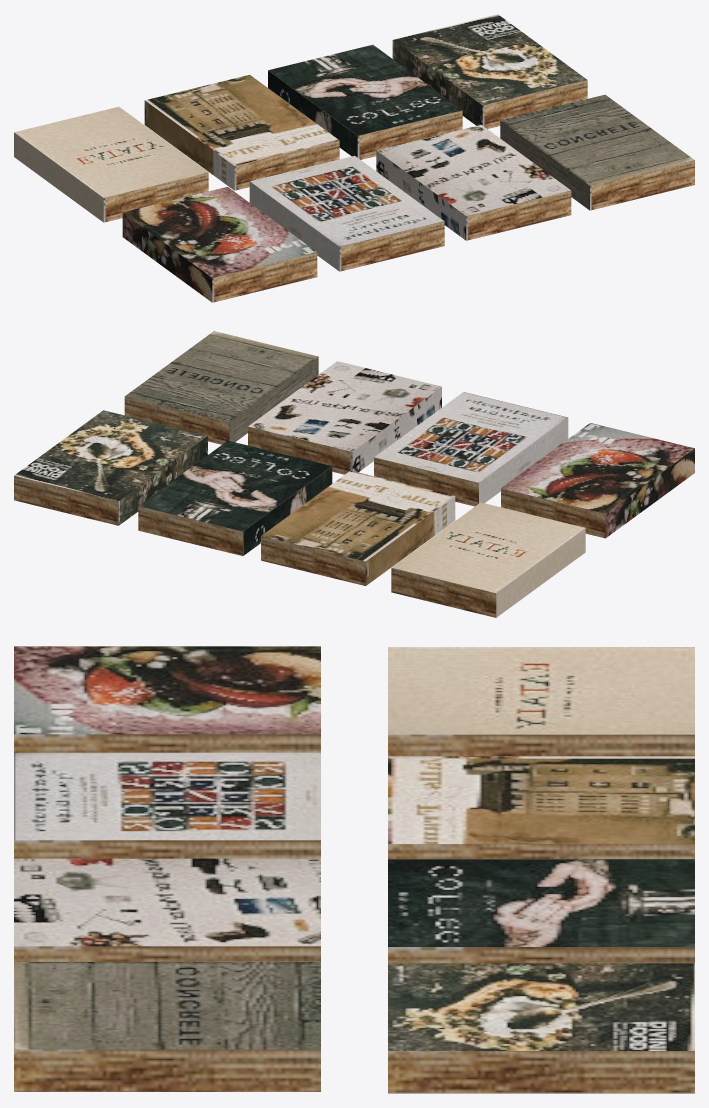
File: books.fbx
3 renders of one model, top to bottom at view 1: azimuth 30°, elevation 25°; view 2: azimuth 150°, elevation 25°; view 3: azimuth 270°, elevation 25°, orthographic. The views are drawn at different scales.
Parts seen in each view (by area): view 1: Books_006, Books_004, Books_007, Books_Books_0, Books_002, Books_005, Books_001, Books_003; view 2: Books_002, Books_005, Books_001, Books_006, Books_003, Books_004, Books_007, Books_Books_0; view 3: Books_001, Books_Books_0, Books_005, Books_004, Books_006, Books_003, Books_007, Books_002.
Boxes of the visible parts, x1,y1,x2,y2 form: Books_006: [122, 187, 317, 302]; Books_004: [249, 155, 444, 271]; Books_007: [376, 125, 571, 240]; Books_Books_0: [500, 94, 694, 210]; Books_002: [144, 74, 339, 190]; Books_005: [14, 106, 208, 222]; Books_001: [392, 14, 587, 128]; Books_003: [268, 44, 462, 159]; Books_002: [261, 470, 455, 585]; Books_005: [391, 502, 585, 617]; Books_001: [14, 410, 207, 525]; Books_006: [501, 423, 694, 538]; Books_003: [138, 440, 332, 555]; Books_004: [374, 392, 568, 506]; Books_007: [248, 361, 441, 474]; Books_Books_0: [124, 331, 318, 444]; Books_001: [388, 963, 694, 1093]; Books_Books_0: [14, 962, 320, 1091]; Books_005: [388, 647, 694, 756]; Books_004: [14, 752, 320, 858]; Books_006: [14, 646, 320, 752]; Books_003: [388, 859, 694, 963]; Books_007: [14, 858, 320, 961]; Books_002: [388, 756, 694, 858].
Size of the model in its own units: 6447 by 315 by 4586.
1 material, 1 textured.
